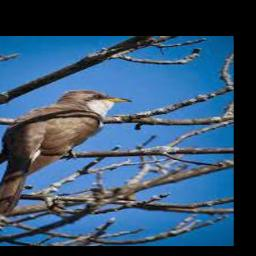Cuckoo: (0, 90, 129, 216)
